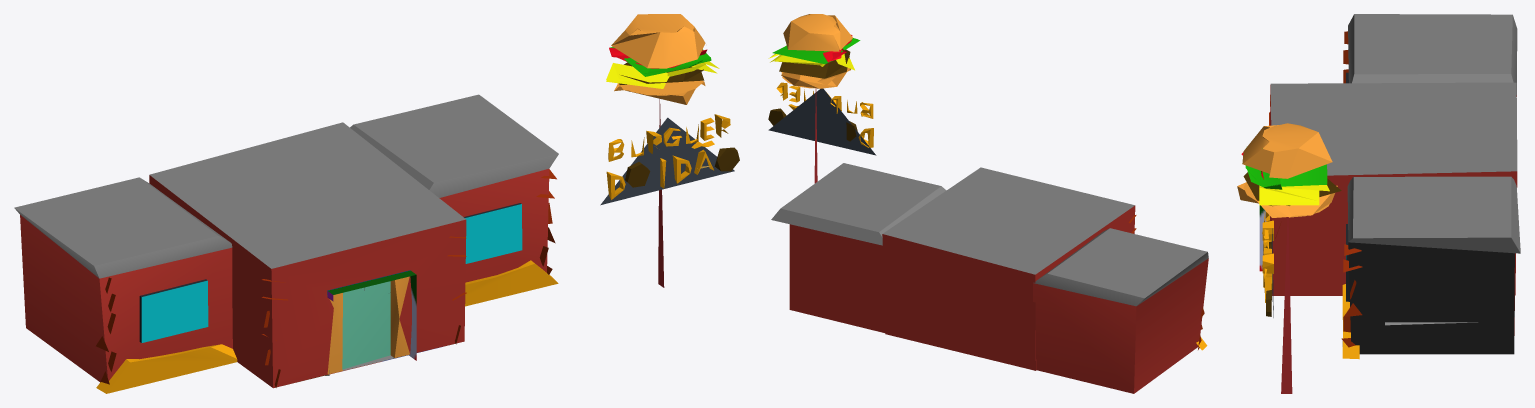
The model's file is BurguerDoidaoLOD2.fbx.
3 renders of one model, left to right at view 1: azimuth 30°, elevation 25°; view 2: azimuth 150°, elevation 25°; view 3: azimuth 270°, elevation 25°, orthographic. The views are drawn at different scales.
Parts seen in each view (by area): view 1: BurguerLOD2, BurgaoLOD2, LetreiroLOD2; view 2: BurguerLOD2, BurgaoLOD2, LetreiroLOD2; view 3: BurguerLOD2, BurgaoLOD2, LetreiroLOD2.
Part boxes in pixels (x1,y1,x2,y2): BurguerLOD2: (14,94,734,393); BurgaoLOD2: (606,14,719,104); LetreiroLOD2: (606,114,739,199); BurguerLOD2: (768,88,1208,393); BurgaoLOD2: (768,14,860,88); LetreiroLOD2: (768,82,873,147); BurguerLOD2: (1259,14,1520,393); BurgaoLOD2: (1237,123,1341,217); LetreiroLOD2: (1262,211,1273,316).
Size of the model in its own units: 1884 by 800 by 780.
Materials: 1 (1 with a texture image).
